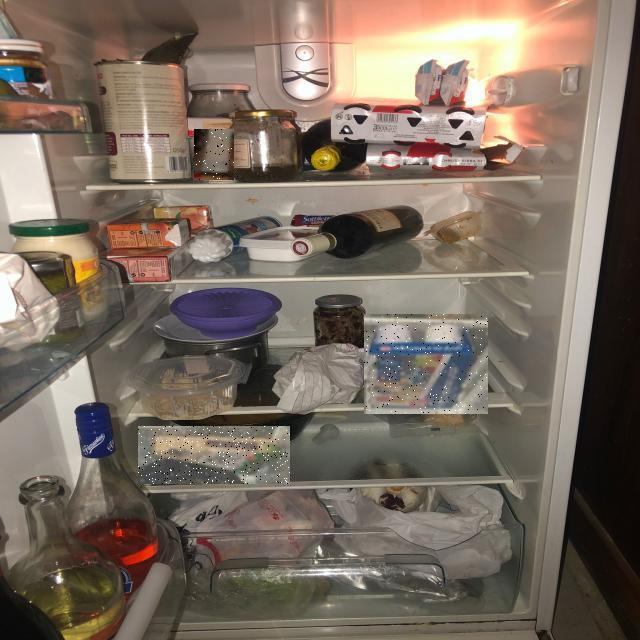Cheese: (138, 426, 290, 484)
Yoghurt: (365, 314, 489, 414), (194, 129, 234, 180)
